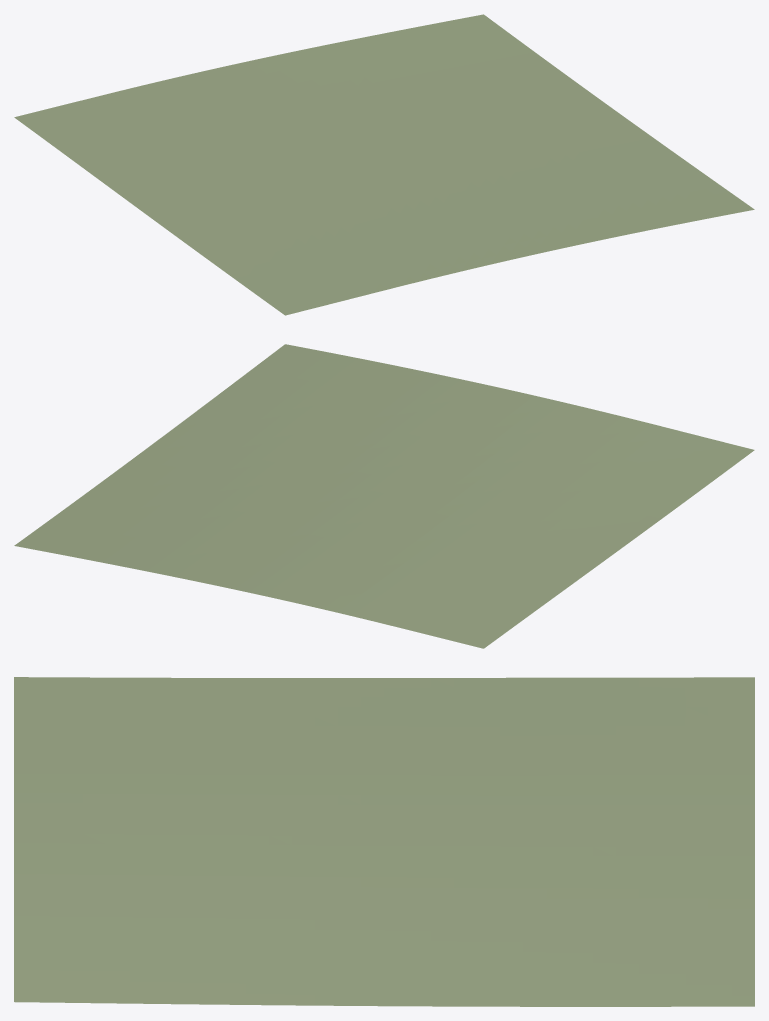
Rendered from desert-0-22.glb.
3 renders of one model, top to bottom at view 1: azimuth 30°, elevation 25°; view 2: azimuth 150°, elevation 25°; view 3: azimuth 270°, elevation 25°, orthographic. The views are drawn at different scales.
Parts seen in each view (by area): view 1: desert-0-22; view 2: desert-0-22; view 3: desert-0-22.
Boxes of the visible parts, x1,y1,x2,y2 form: desert-0-22: [14, 14, 754, 315]; desert-0-22: [14, 344, 754, 648]; desert-0-22: [14, 677, 754, 1006].
Bounding box in the file's own units: 512 × 13.95 × 512.
